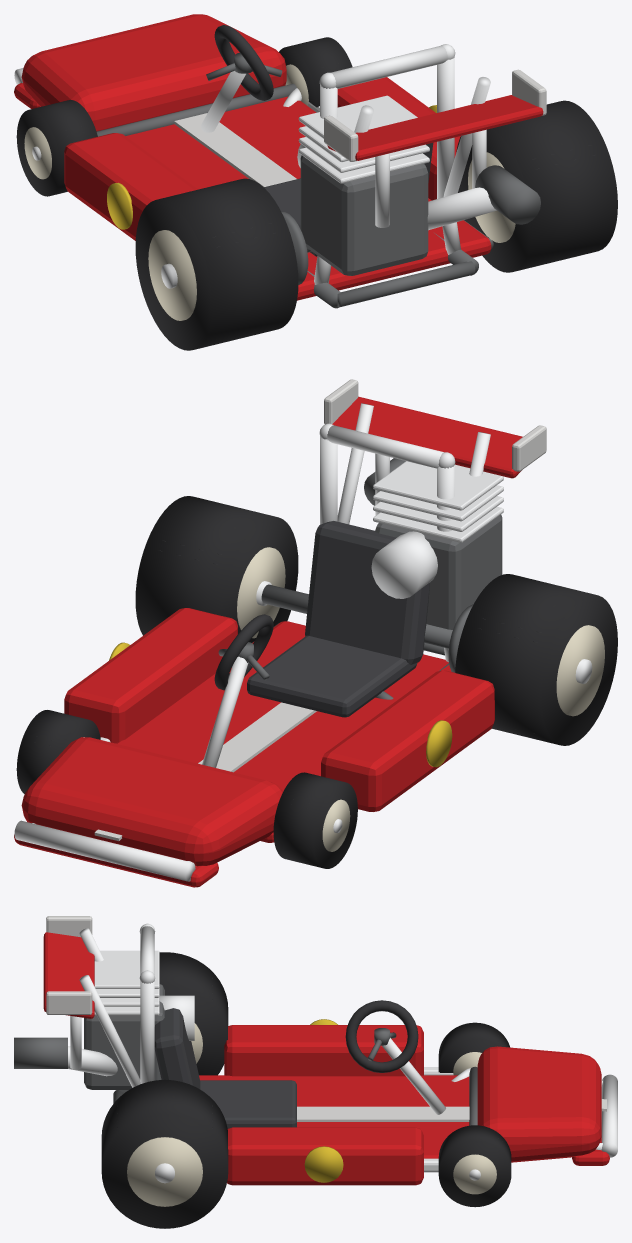
Rendered from kart-coachwork-v3.glb.
3 views of the same model, one above another, from view 1: azimuth 30°, elevation 25°; view 2: azimuth 150°, elevation 25°; view 3: azimuth 270°, elevation 25° (orthographic). The views are drawn at different scales.
Parts seen in each view (by area): view 1: coachwork__HarbourKart_body_red, coachwork__HarbourKart_engine_dark, wheel_rl__HarbourKart_tyre_rubber, coachwork__HarbourKart_chrome, wheel_rr__HarbourKart_tyre_rubber, coachwork__HarbourKart_stripe_white, wheel_fl__HarbourKart_tyre_rubber, wheel_rl__HarbourKart_rim_cream, wheel_fr__HarbourKart_tyre_rubber, coachwork__HarbourKart_grip_black, wheel_rr__HarbourKart_rim_cream, coachwork__HarbourKart_seat_charcoal (+3 smaller); view 2: coachwork__HarbourKart_body_red, coachwork__HarbourKart_chrome, coachwork__HarbourKart_seat_charcoal, wheel_rl__HarbourKart_tyre_rubber, wheel_rr__HarbourKart_tyre_rubber, coachwork__HarbourKart_engine_dark, wheel_fl__HarbourKart_tyre_rubber, coachwork__HarbourKart_stripe_white, wheel_fr__HarbourKart_tyre_rubber, wheel_rl__HarbourKart_rim_cream, wheel_rr__HarbourKart_rim_cream, coachwork__HarbourKart_grip_black (+2 smaller); view 3: coachwork__HarbourKart_body_red, coachwork__HarbourKart_chrome, wheel_rr__HarbourKart_tyre_rubber, coachwork__HarbourKart_seat_charcoal, coachwork__HarbourKart_engine_dark, coachwork__HarbourKart_stripe_white, wheel_rl__HarbourKart_tyre_rubber, wheel_rr__HarbourKart_rim_cream, wheel_fr__HarbourKart_tyre_rubber, coachwork__HarbourKart_grip_black, wheel_fl__HarbourKart_tyre_rubber, wheel_fr__HarbourKart_rim_cream (+1 smaller).
Part boxes in pixels (bbox=[...]): coachwork__HarbourKart_body_red: bbox=[14, 14, 543, 300]; coachwork__HarbourKart_engine_dark: bbox=[96, 52, 540, 308]; wheel_rl__HarbourKart_tyre_rubber: bbox=[135, 178, 298, 350]; coachwork__HarbourKart_chrome: bbox=[14, 44, 496, 284]; wheel_rr__HarbourKart_tyre_rubber: bbox=[456, 100, 617, 272]; coachwork__HarbourKart_stripe_white: bbox=[174, 69, 546, 187]; wheel_fl__HarbourKart_tyre_rubber: bbox=[16, 100, 97, 196]; wheel_rl__HarbourKart_rim_cream: bbox=[148, 230, 196, 320]; wheel_fr__HarbourKart_tyre_rubber: bbox=[279, 37, 352, 107]; coachwork__HarbourKart_grip_black: bbox=[214, 25, 273, 100]; wheel_rr__HarbourKart_rim_cream: bbox=[468, 152, 515, 242]; coachwork__HarbourKart_seat_charcoal: bbox=[264, 143, 433, 256]; coachwork__HarbourKart_body_red: bbox=[14, 396, 522, 887]; coachwork__HarbourKart_chrome: bbox=[14, 403, 503, 881]; coachwork__HarbourKart_seat_charcoal: bbox=[247, 521, 429, 717]; wheel_rl__HarbourKart_tyre_rubber: bbox=[455, 574, 617, 745]; wheel_rr__HarbourKart_tyre_rubber: bbox=[135, 496, 298, 642]; coachwork__HarbourKart_engine_dark: bbox=[218, 458, 502, 699]; wheel_fl__HarbourKart_tyre_rubber: bbox=[273, 772, 357, 868]; coachwork__HarbourKart_stripe_white: bbox=[94, 379, 546, 841]; wheel_fr__HarbourKart_tyre_rubber: bbox=[16, 710, 100, 793]; wheel_rl__HarbourKart_rim_cream: bbox=[556, 625, 604, 716]; wheel_rr__HarbourKart_rim_cream: bbox=[237, 547, 285, 638]; coachwork__HarbourKart_grip_black: bbox=[214, 614, 273, 690]; coachwork__HarbourKart_body_red: bbox=[43, 932, 609, 1185]; coachwork__HarbourKart_chrome: bbox=[68, 923, 617, 1172]; wheel_rr__HarbourKart_tyre_rubber: bbox=[101, 1079, 228, 1228]; coachwork__HarbourKart_seat_charcoal: bbox=[154, 1008, 296, 1128]; coachwork__HarbourKart_engine_dark: bbox=[14, 984, 477, 1125]; coachwork__HarbourKart_stripe_white: bbox=[46, 916, 606, 1121]; wheel_rl__HarbourKart_tyre_rubber: bbox=[159, 952, 228, 1075]; wheel_rr__HarbourKart_rim_cream: bbox=[127, 1137, 202, 1206]; wheel_fr__HarbourKart_tyre_rubber: bbox=[438, 1125, 511, 1207]; coachwork__HarbourKart_grip_black: bbox=[345, 1000, 418, 1072]; wheel_fl__HarbourKart_tyre_rubber: bbox=[438, 1022, 510, 1072]; wheel_fr__HarbourKart_rim_cream: bbox=[453, 1154, 496, 1194].
Bounding box in the file's own units: 1.47 × 0.819 × 2.24.
